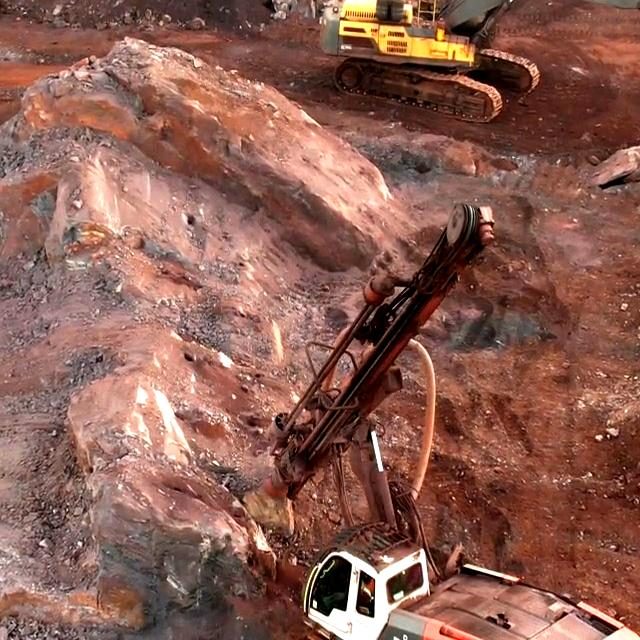Blast rig: (300, 558, 632, 640)
Excavator: (341, 0, 509, 104)
